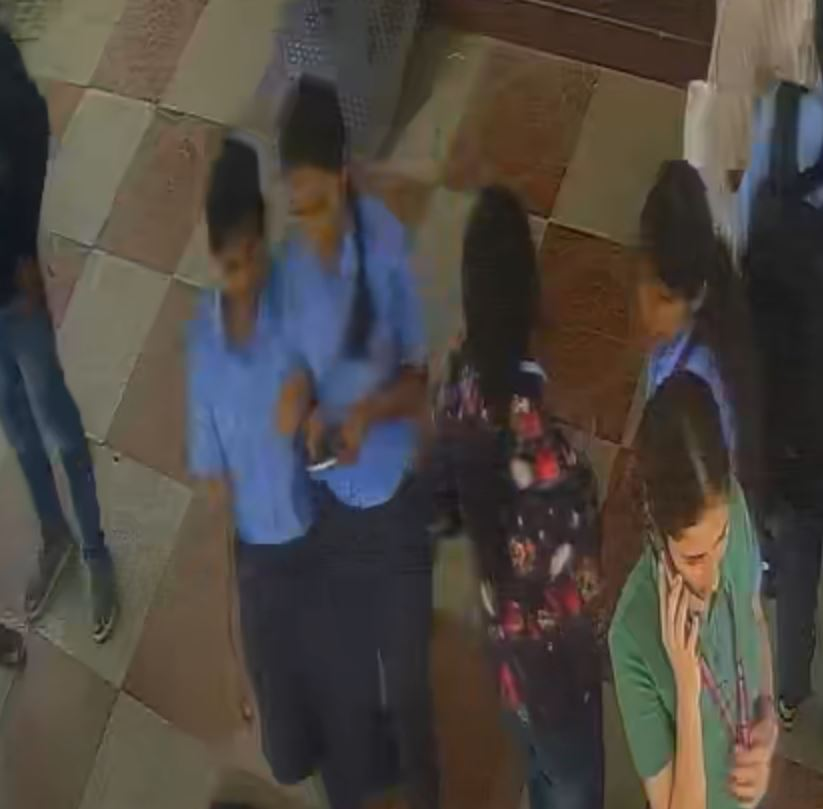intruder: (282, 68, 446, 785), (179, 117, 316, 809)
